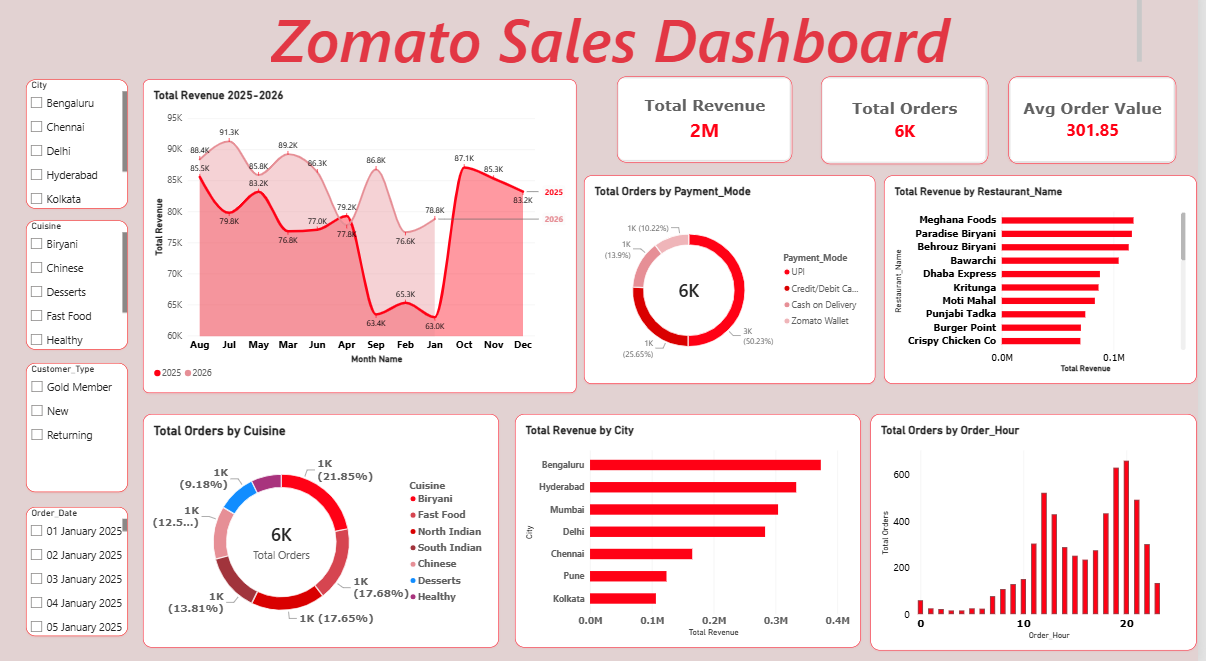

The dashboard page shown, as its layout file describes it:
{"tool":"powerbi","page":{"name":"Page 1","canvas":[1920,1080],"ordinal":0},"visuals":[{"type":"cardVisual","title":"Total Revenue","fields":{"Data":["Zomato_sales_analytics.Total Revenue"]},"box":[997.3,145.5,278.9,136.8],"z":0},{"type":"cardVisual","title":"Total Revenue","fields":{"Data":["Zomato_sales_analytics.Total Orders"]},"box":[1321.8,145.5,265.8,139.5],"z":1000},{"type":"cardVisual","title":"Total Revenue","fields":{"Data":["Zomato_sales_analytics.Avg Order Value"]},"box":[1620,145.5,266.5,138.9],"z":2000},{"type":"lineChart","title":"Total Revenue 2025-2026","fields":{"Category":["Zomato_sales_analytics.Month Name"],"Series":["Zomato_sales_analytics.Year_"],"Y":["Zomato_sales_analytics.Total Revenue"]},"box":[243.4,150.3,689.5,498.7],"z":3000},{"type":"clusteredBarChart","fields":{"Category":["Zomato_sales_analytics.City"],"Y":["Zomato_sales_analytics.Total Revenue"]},"box":[835.1,682.4,550,371.1],"z":4000},{"type":"donutChart","fields":{"Category":["Zomato_sales_analytics.Cuisine"],"Y":["Zomato_sales_analytics.Total Orders"]},"box":[243.4,682.4,565.8,371.1],"z":5000},{"type":"clusteredColumnChart","fields":{"Category":["Zomato_sales_analytics.Order_Hour"],"Y":["Zomato_sales_analytics.Total Orders"]},"box":[1400.5,682.4,518.4,376.3],"z":6000},{"type":"clusteredBarChart","fields":{"Category":["Zomato_sales_analytics.Restaurant_Name"],"Y":["Zomato_sales_analytics.Total Revenue"]},"box":[1422,303,497.4,331.6],"z":6001},{"type":"donutChart","fields":{"Category":["Zomato_sales_analytics.Payment_Mode"],"Y":["Zomato_sales_analytics.Total Orders"]},"box":[944.8,303,463.2,331.6],"z":6002},{"type":"textbox","box":[446.2,0,1386.2,150.3],"z":6003},{"type":"slicer","fields":{"Values":["Zomato_sales_analytics.City"]},"box":[57.3,150.3,162.2,205.2],"z":6004},{"type":"slicer","fields":{"Values":["Zomato_sales_analytics.Order_Date"]},"box":[57.3,830.3,162.2,205.2],"z":6005},{"type":"slicer","fields":{"Values":["Zomato_sales_analytics.Customer_Type"]},"box":[57.3,601.3,162.2,205.2],"z":6006},{"type":"slicer","fields":{"Values":["Zomato_sales_analytics.Cuisine"]},"box":[57.3,374.6,162.2,205.2],"z":6007}]}

Visuals, with their boxes in screenshot pixels (x1, y1, x2, y2), scaled from the page's 1920x1080 canvas onto the 1206x661 screenshot:
"Total Revenue" cardVisual: (626, 89, 802, 173)
"Total Revenue" cardVisual: (830, 89, 997, 174)
"Total Revenue" cardVisual: (1018, 89, 1185, 174)
"Total Revenue 2025-2026" lineChart: (153, 92, 586, 397)
clusteredBarChart - Zomato_sales_analytics.City x Zomato_sales_analytics.Total Revenue: (525, 418, 870, 645)
donutChart - Zomato_sales_analytics.Cuisine x Zomato_sales_analytics.Total Orders: (153, 418, 508, 645)
clusteredColumnChart - Zomato_sales_analytics.Order_Hour x Zomato_sales_analytics.Total Orders: (880, 418, 1205, 648)
clusteredBarChart - Zomato_sales_analytics.Restaurant_Name x Zomato_sales_analytics.Total Revenue: (893, 185, 1205, 388)
donutChart - Zomato_sales_analytics.Payment_Mode x Zomato_sales_analytics.Total Orders: (593, 185, 884, 388)
textbox: (280, 0, 1151, 92)
slicer - Zomato_sales_analytics.City: (36, 92, 138, 218)
slicer - Zomato_sales_analytics.Order_Date: (36, 508, 138, 634)
slicer - Zomato_sales_analytics.Customer_Type: (36, 368, 138, 494)
slicer - Zomato_sales_analytics.Cuisine: (36, 229, 138, 355)
